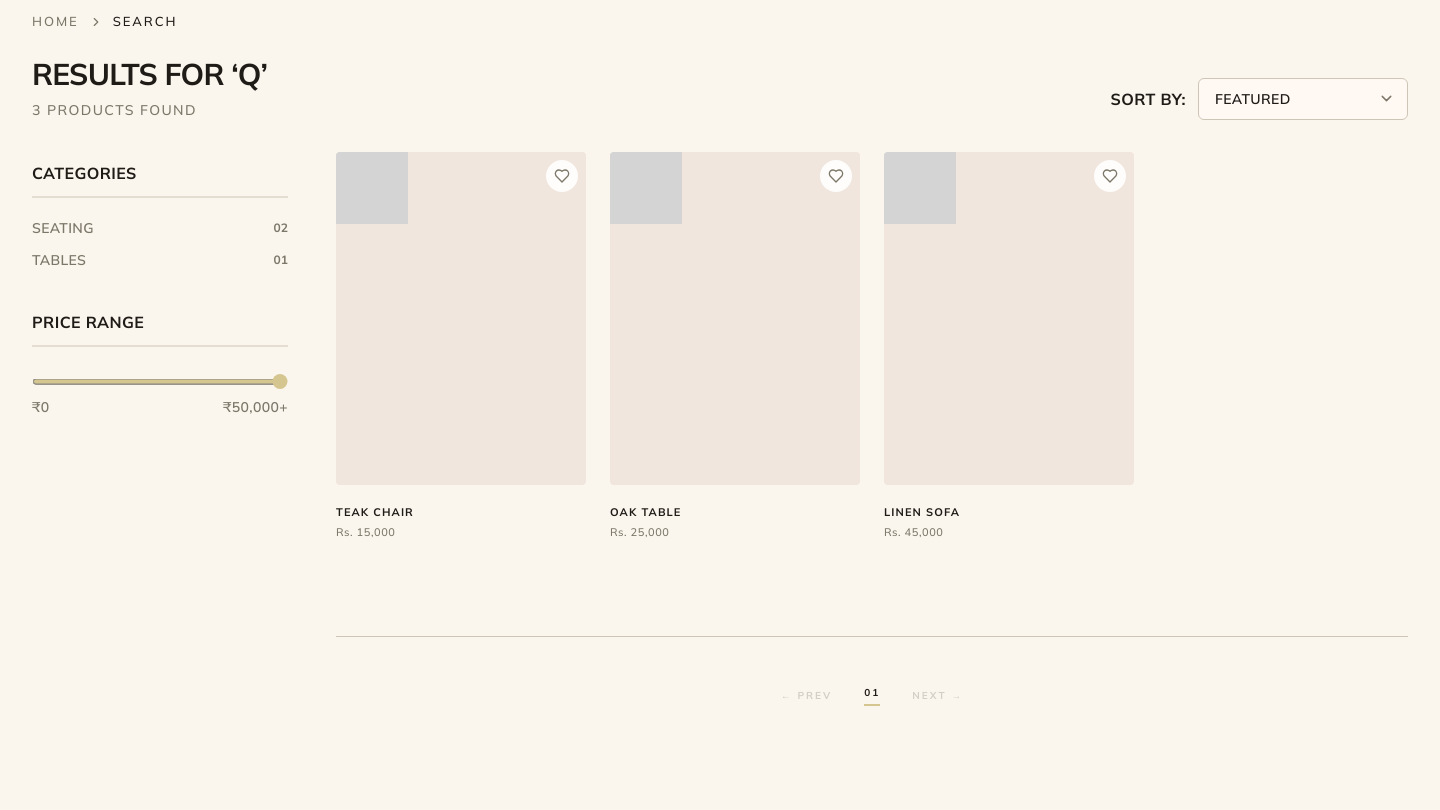
Test case: SearchResults › category filter › clicking the active category again shows all products
What coordinates should you click on to do the following:
click the list item with test id "filter-category-Tables"
I would click on:
 (59, 259)
Its box is [32,249,288,269].
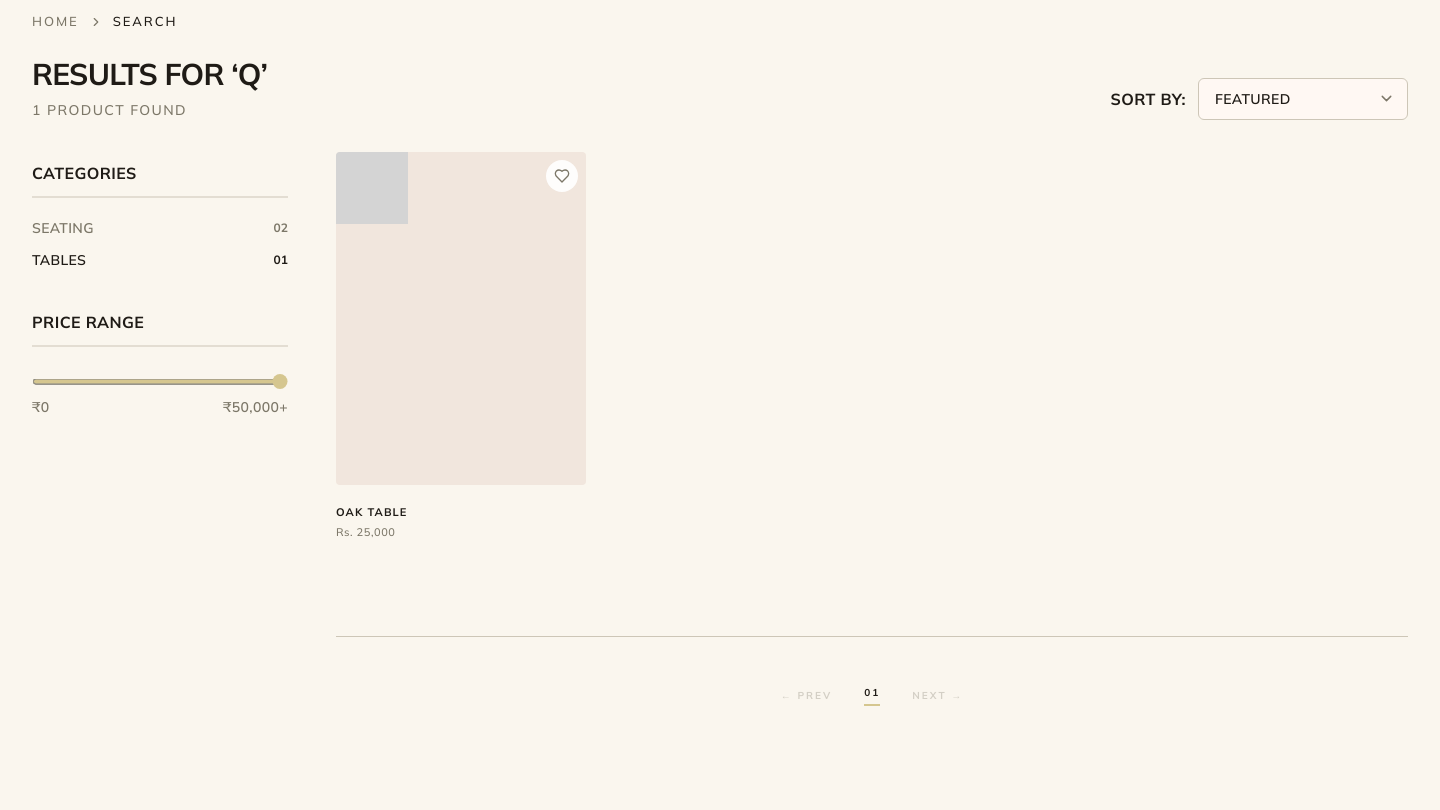
What coordinates should you click on to do the following:
click the list item with test id "filter-category-Tables"
I would click on:
 (59, 259)
Its box is [32,249,288,269].
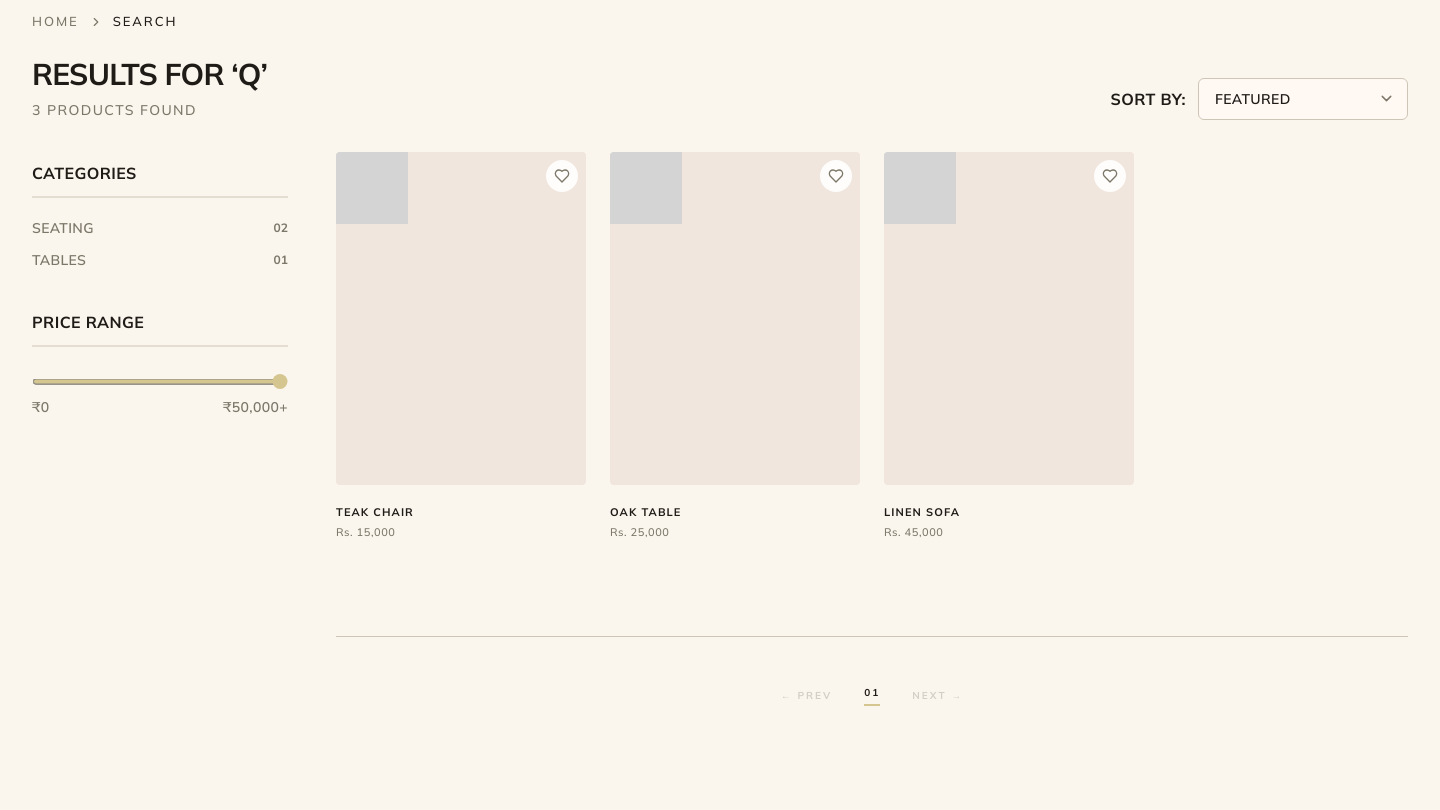
Expected: the link with test id "product-card-2" is shown, [610,152,860,540]
Expected: the link with test id "product-card-1" is shown, [336,152,586,540]
Expected: the link with test id "product-card-3" is shown, [884,152,1134,540]
